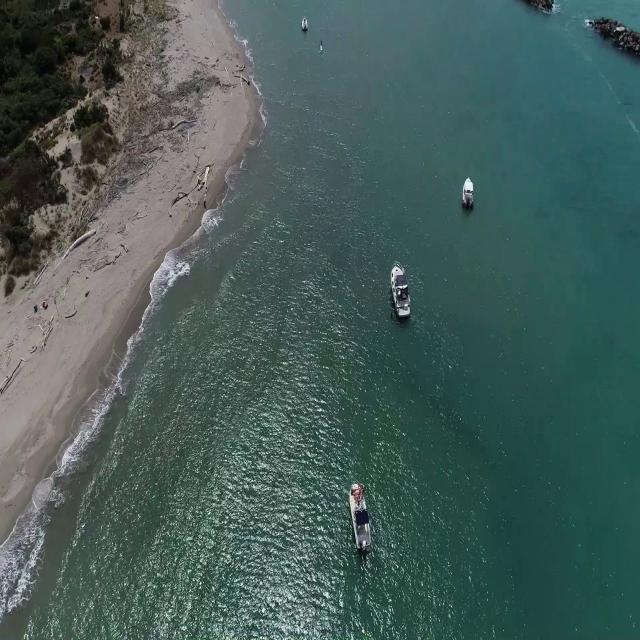boat: (350, 481, 373, 560), (388, 262, 411, 325), (462, 175, 476, 211), (300, 16, 309, 32)
person: (320, 37, 326, 49)
surfboard: (318, 45, 325, 57)
wood: (171, 165, 213, 211)
